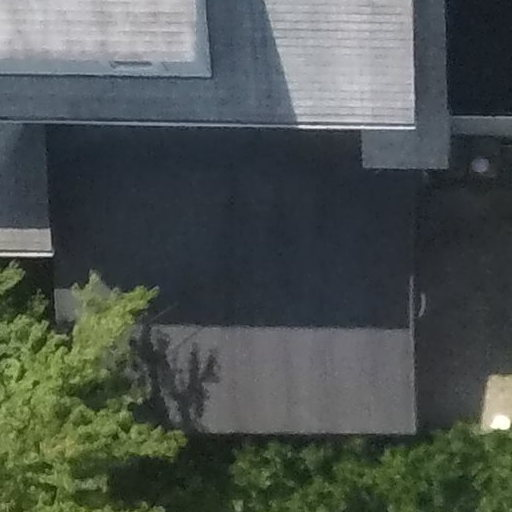car: (472, 152, 496, 176)
